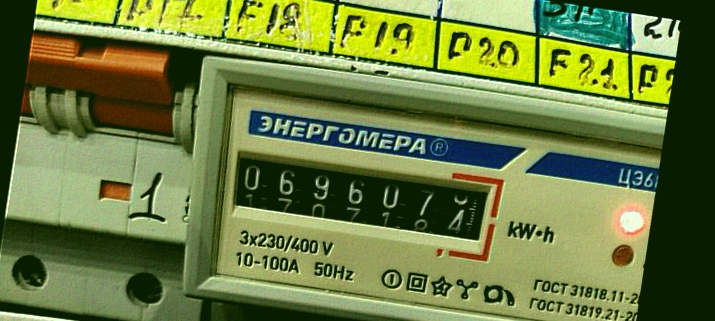0: (240, 161, 265, 194), (380, 179, 403, 212)
4: (444, 205, 467, 236)
6: (274, 165, 300, 198), (346, 176, 369, 207)
7: (415, 186, 436, 218)
9: (311, 172, 333, 203)
screen: (212, 131, 507, 263)
